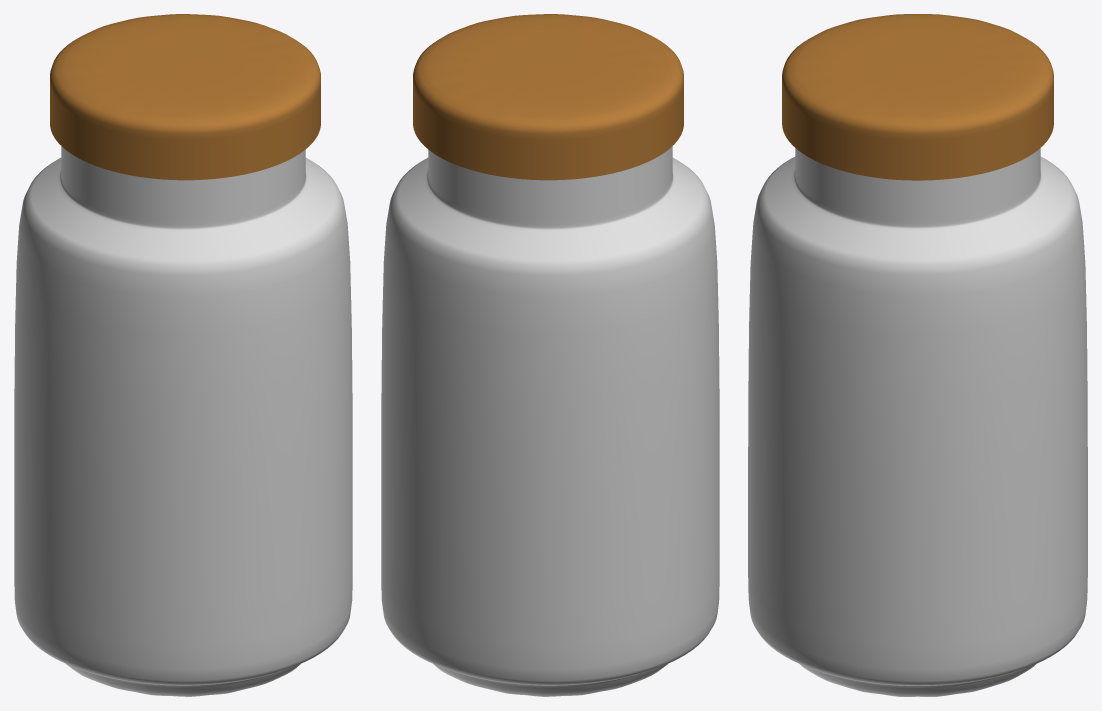
File: Jam_Jar_Final.fbx
3 renders of one model, left to right at view 1: azimuth 30°, elevation 25°; view 2: azimuth 150°, elevation 25°; view 3: azimuth 270°, elevation 25°, orthographic.
Parts seen in each view (by area): view 1: Glass2, Lid1; view 2: Glass2, Lid1; view 3: Glass2, Lid1.
Part boxes in pixels (box(x1,y1,x2,y2)): Glass2: box(14, 146, 352, 696); Lid1: box(50, 14, 320, 180); Glass2: box(381, 146, 719, 696); Lid1: box(413, 14, 683, 180); Glass2: box(748, 148, 1087, 696); Lid1: box(782, 14, 1053, 180).
Bounding box in the file's own units: 2.06 × 3.93 × 2.06.
